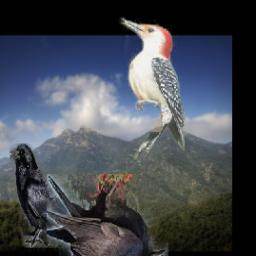Crow: (47, 174, 168, 256), (9, 143, 91, 248)
Woodpecker: (118, 18, 185, 161)
